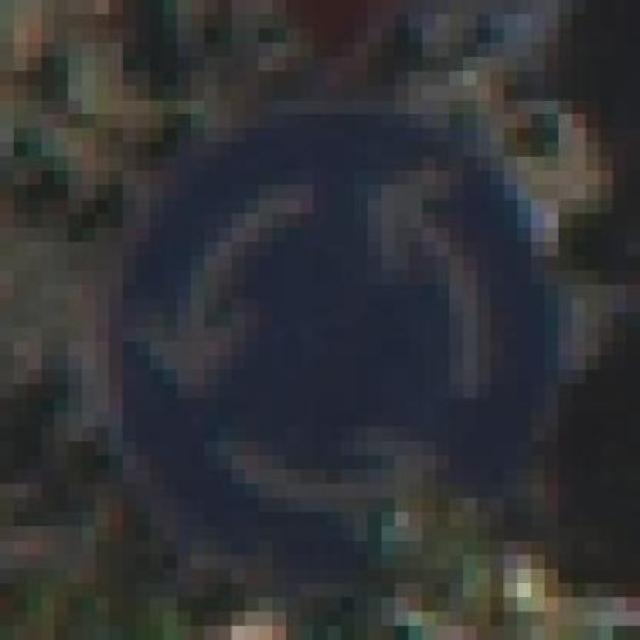Round-About: (68, 71, 626, 569)
